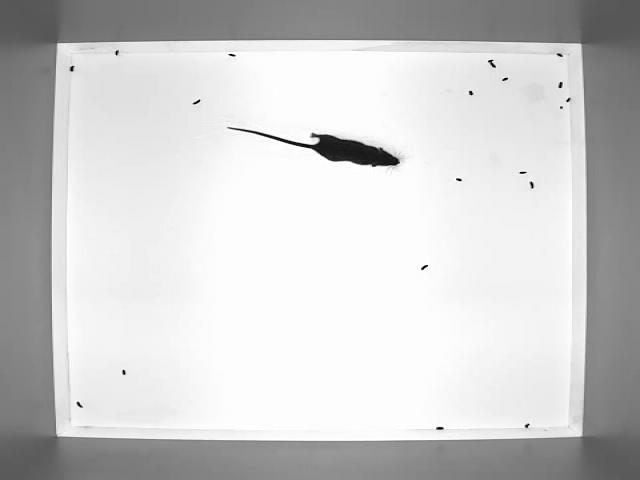Tikus: (225, 125, 402, 168)
